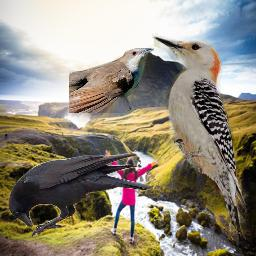Crow: (8, 153, 155, 239)
Cuckoo: (69, 48, 154, 113)
Woodpecker: (152, 27, 253, 245)
